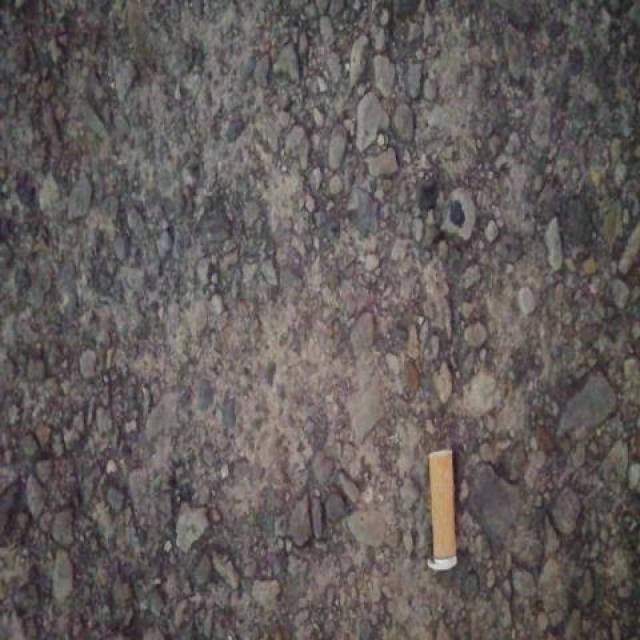non-organic waste: (423, 444, 462, 576)
